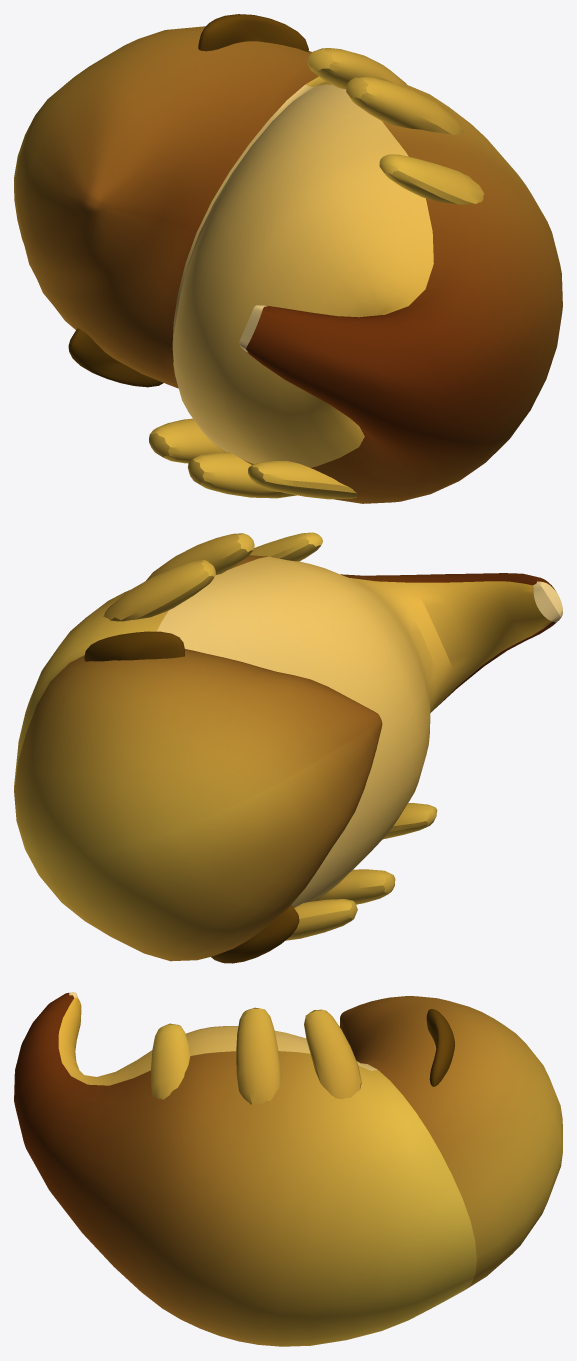
File: Fixed_Item_Embryo_Ver1.fbx
The picture shows the model from 3 angles, top to bottom: view 1: azimuth 30°, elevation 25°; view 2: azimuth 150°, elevation 25°; view 3: azimuth 270°, elevation 25°; orthographic projection. The views are drawn at different scales.
Parts seen in each view (by area): view 1: eyes; view 2: eyes; view 3: eyes.
Part boxes in pixels (<box>): eyes: <box>14,14,562,503</box>; eyes: <box>14,532,562,963</box>; eyes: <box>14,992,562,1346</box>.
Bounding box in the file's own units: 252 × 236 × 363.
3 materials, 3 textured.
